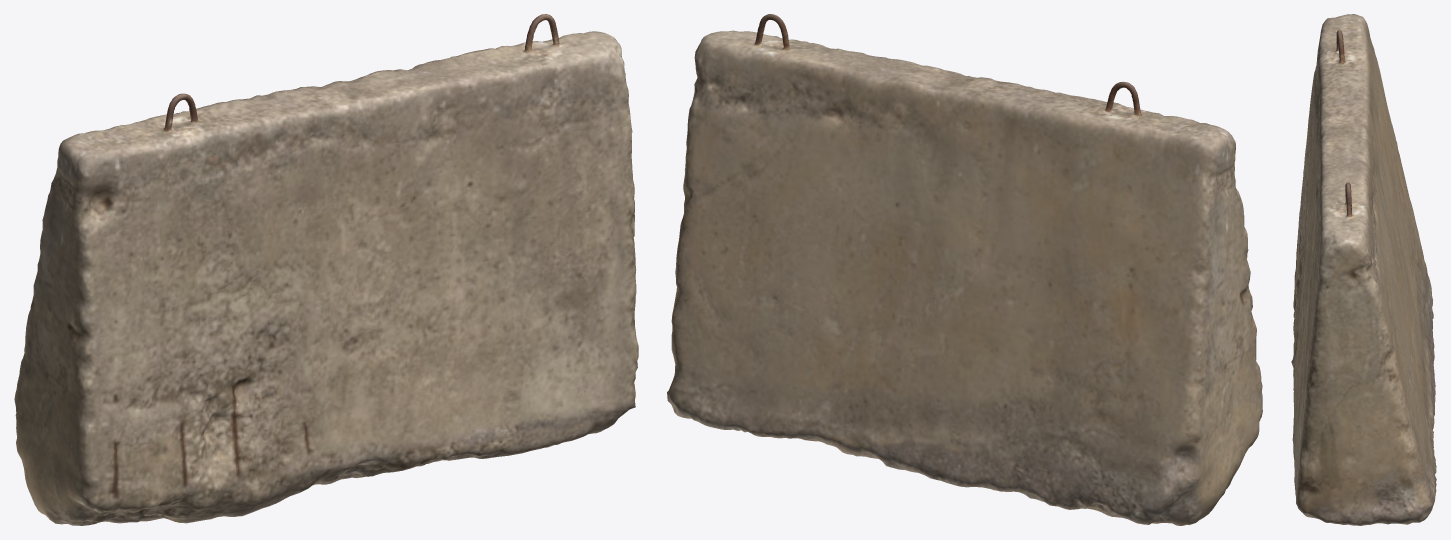
File: concrete_road_barrier_02.glb
The picture shows the model from 3 angles, left to right: view 1: azimuth 30°, elevation 25°; view 2: azimuth 150°, elevation 25°; view 3: azimuth 270°, elevation 25°; orthographic projection. The views are drawn at different scales.
Parts seen in each view (by area): view 1: concrete_road_barrier_02; view 2: concrete_road_barrier_02; view 3: concrete_road_barrier_02.
Boxes of the visible parts, x1,y1,x2,y2 form: concrete_road_barrier_02: [14, 14, 638, 525]; concrete_road_barrier_02: [667, 14, 1262, 525]; concrete_road_barrier_02: [1291, 14, 1436, 525].
Bounding box in the file's own units: 1.57 × 1.11 × 0.4421.
1 material, 1 textured.
